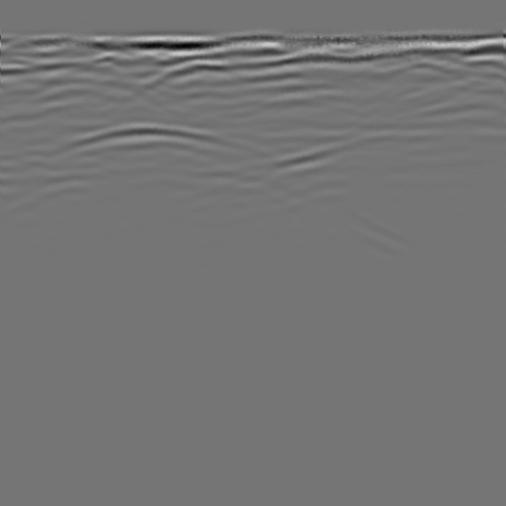hyperbola: (14, 111, 282, 213)
